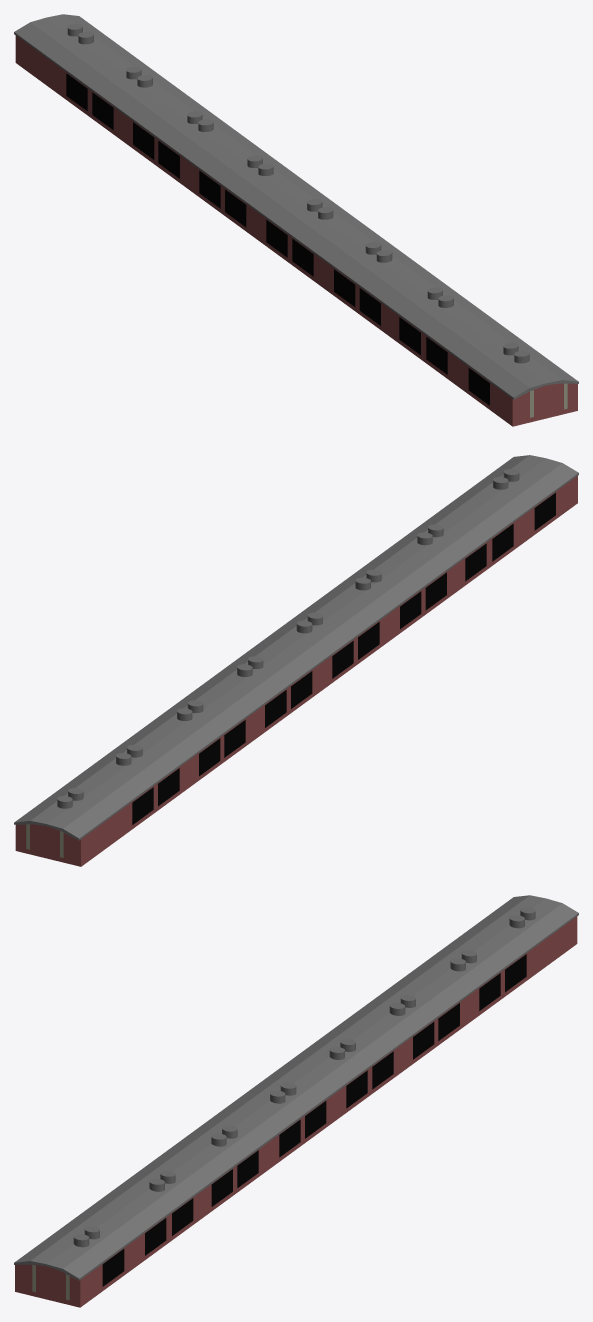
Rendered from mr-addon-clerestory-long.dae.
3 renders of one model, top to bottom at view 1: azimuth 30°, elevation 25°; view 2: azimuth 150°, elevation 25°; view 3: azimuth 330°, elevation 25°, orthographic.
Parts seen in each view (by area): view 1: Cube_018, Cube; view 2: Cube_018, Cube; view 3: Cube_018, Cube, Plane_373_002.
Boxes of the visible parts, <box> form: Cube_018: <box>14,14,578,399</box>; Cube: <box>15,35,577,426</box>; Cube_018: <box>14,455,578,840</box>; Cube: <box>15,475,577,866</box>; Cube_018: <box>14,895,578,1280</box>; Cube: <box>15,916,577,1307</box>; Plane_373_002: <box>102,1249,124,1286</box>.
Bounding box in the file's own units: 0.7054 × 9.29 × 0.4395.
